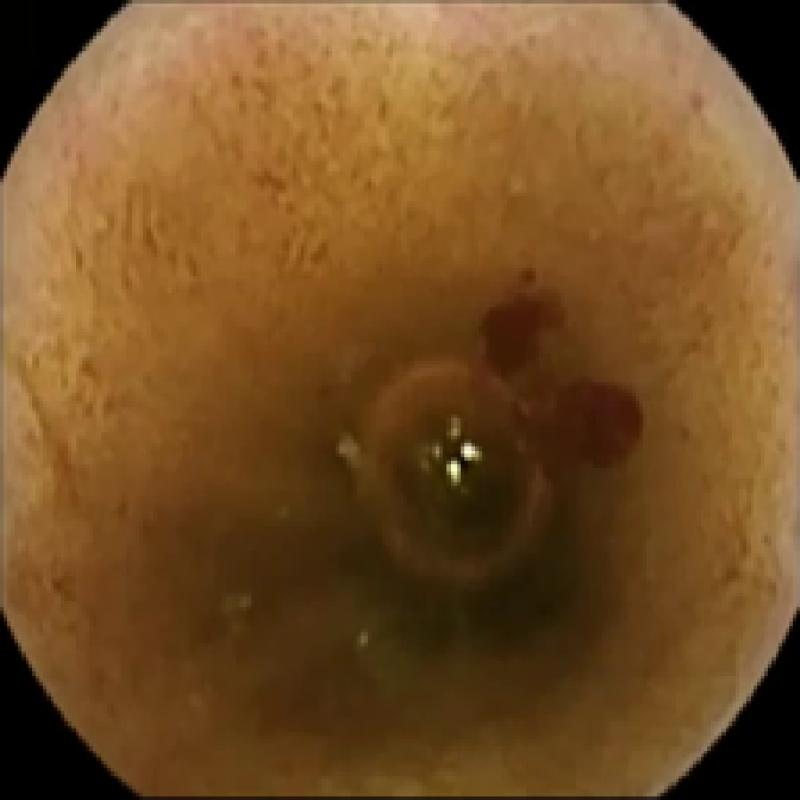bleeding: (475, 254, 568, 372), (514, 377, 643, 462)
